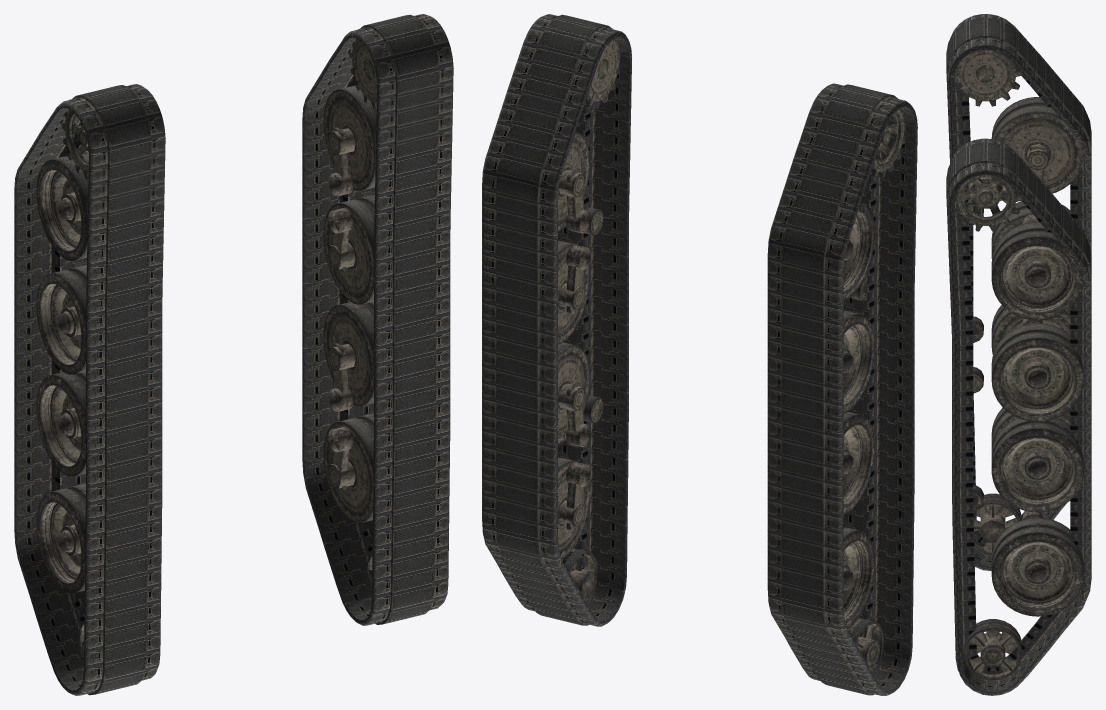
The model's file is Chassis.glb.
3 renders of one model, left to right at view 1: azimuth 30°, elevation 25°; view 2: azimuth 150°, elevation 25°; view 3: azimuth 270°, elevation 25°, orthographic. The views are drawn at different scales.
Parts seen in each view (by area): view 1: set_2_group_0, set_3_group_0, set_1_group_0, set_0_group_0; view 2: set_2_group_0, set_3_group_0, set_1_group_0, set_0_group_0; view 3: set_1_group_0, set_3_group_0, set_0_group_0, set_2_group_0.
Boxes of the visible parts, left/top/right/bottom form: set_2_group_0: left=14, top=84, right=165, bottom=695; set_3_group_0: left=302, top=14, right=453, bottom=625; set_1_group_0: left=323, top=15, right=443, bottom=594; set_0_group_0: left=36, top=85, right=155, bottom=666; set_2_group_0: left=767, top=83, right=917, bottom=695; set_3_group_0: left=482, top=14, right=631, bottom=626; set_1_group_0: left=535, top=16, right=620, bottom=604; set_0_group_0: left=821, top=85, right=906, bottom=674; set_1_group_0: left=948, top=142, right=1083, bottom=680; set_3_group_0: left=946, top=138, right=1091, bottom=695; set_0_group_0: left=948, top=17, right=1083, bottom=554; set_2_group_0: left=946, top=14, right=1091, bottom=571.
Bounding box in the file's own units: 3.26 × 5.13 × 1.27.
Materials: 4 (4 with a texture image).
